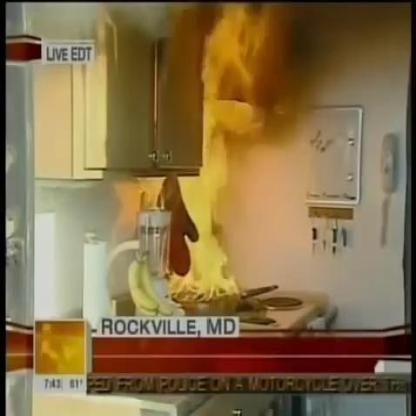fire: (165, 0, 267, 303)
